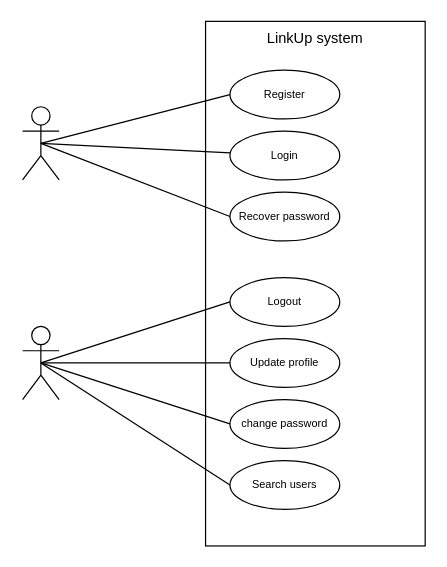
This 447x567 diagram has some shape labels left out. Here are the shapes that lost their labels. From the top down, the centre of each, then its label:
(x=40, y=143): Guest
(x=40, y=362): User
